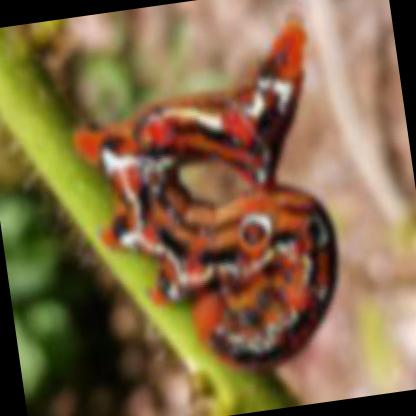fruit sucking moth: (85, 25, 317, 352)
